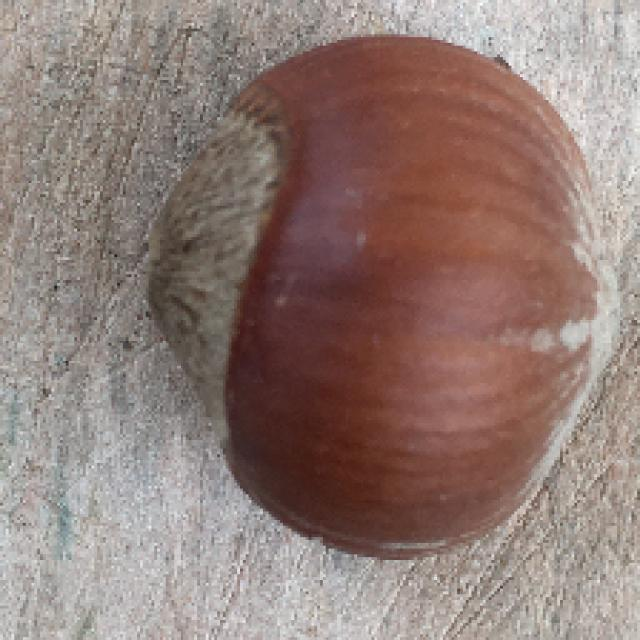qualityHazelnut: (156, 34, 607, 562)
